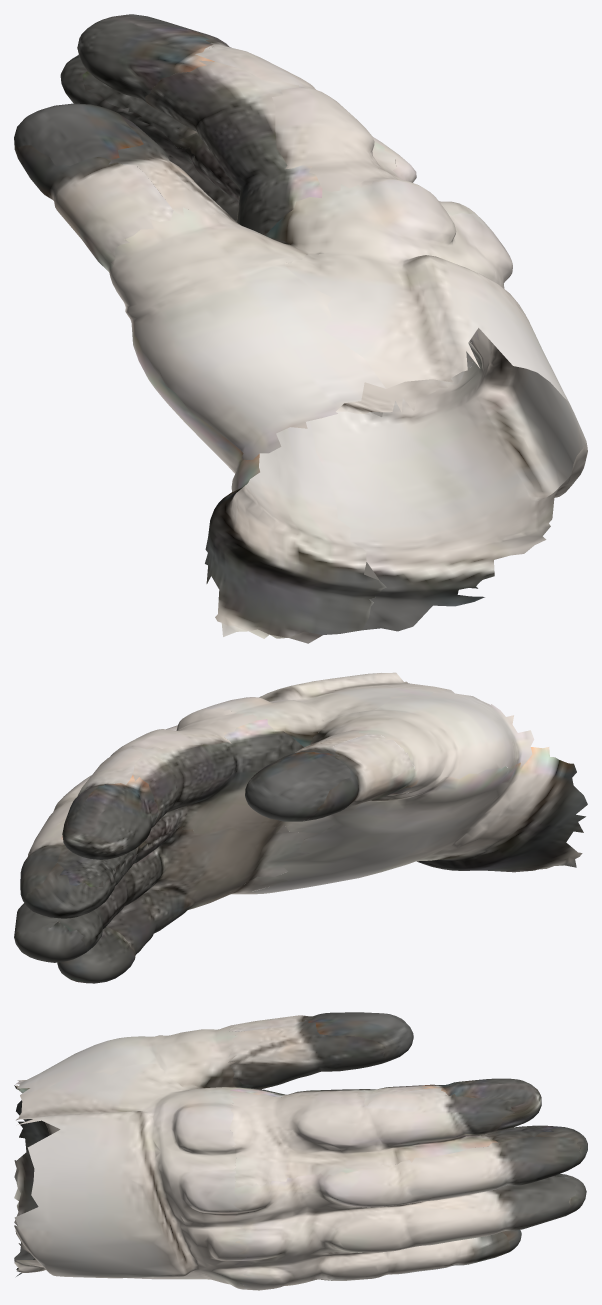
Rendered from ares-glove.glb.
3 renders of one model, top to bottom at view 1: azimuth 30°, elevation 25°; view 2: azimuth 150°, elevation 25°; view 3: azimuth 270°, elevation 25°, orthographic. The views are drawn at different scales.
Parts seen in each view (by area): view 1: Ares glove; view 2: Ares glove; view 3: Ares glove.
Part boxes in pixels (x1=…): Ares glove: x1=14, y1=14, x2=587, y2=643; Ares glove: x1=14, y1=672, x2=587, y2=983; Ares glove: x1=14, y1=1012, x2=587, y2=1290.
Bounding box in the file's own units: 0.1744 × 0.1197 × 0.2809.
1 material, 1 textured.
